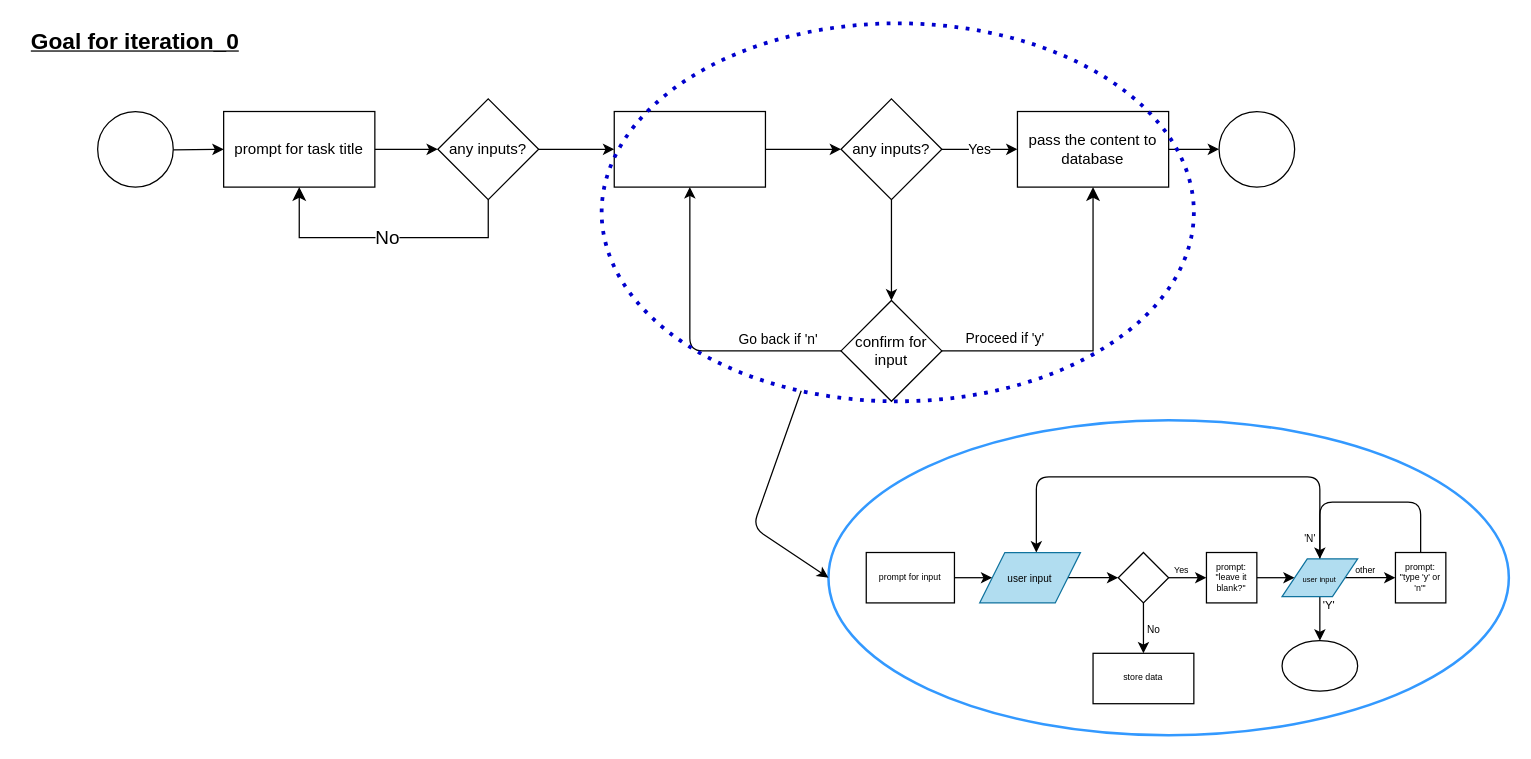
This 1531x759 diagram has some shape labels left out. The box of each missing label's shape, as (x1, y1, x2, y2) in pixels:
Done: (1281, 639, 1358, 691)
empty?: (1117, 551, 1169, 603)
end: (1218, 110, 1295, 187)
prompt for detail: (613, 110, 765, 187)
start: (96, 110, 173, 187)
